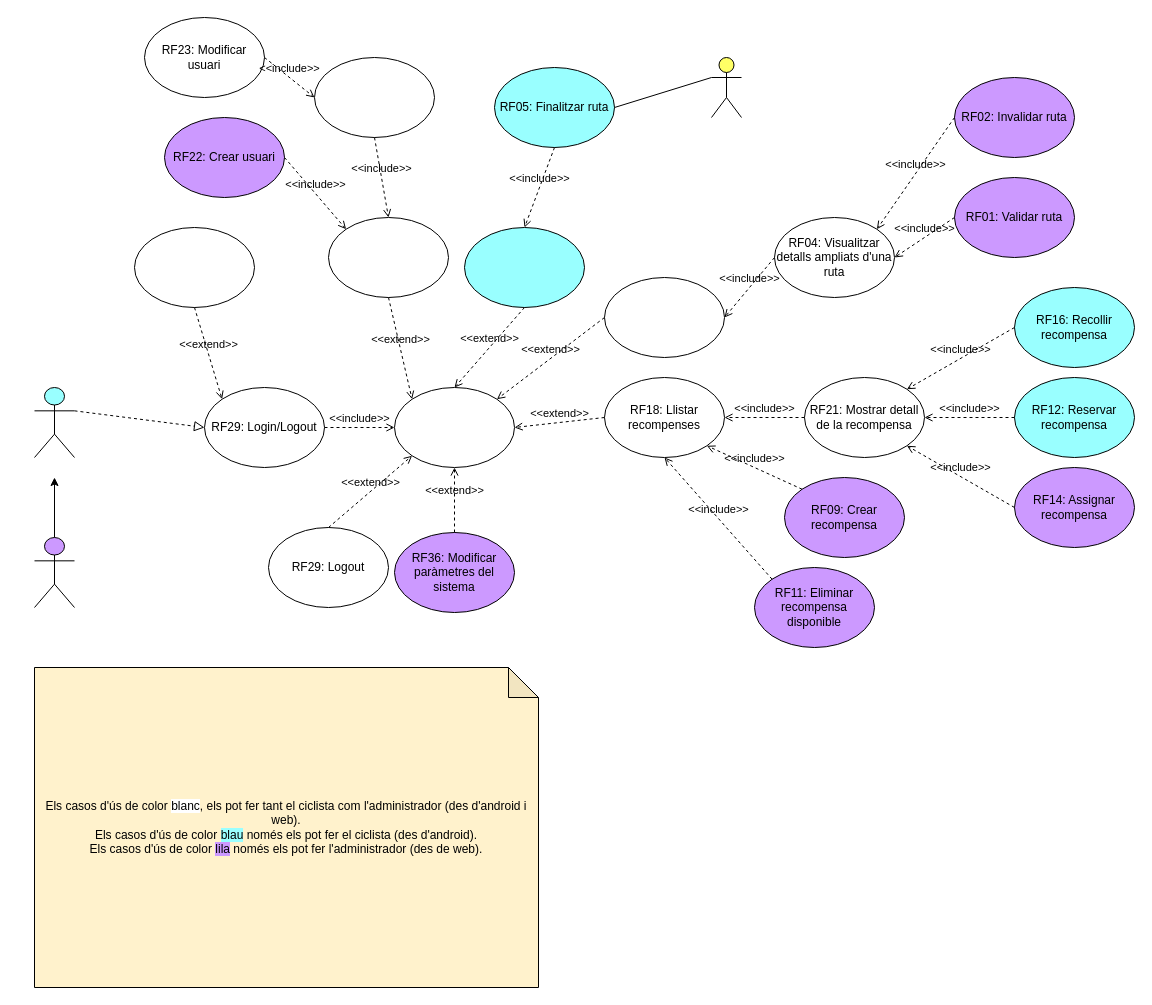
Image size: 1152x1005. Some labels were removed from this diagram. Here are the shapes that lost their labels. From the top down, the box of each, then its label:
(314, 56, 434, 138): RF26: Visualitzar detalls de l'usuari
(710, 56, 742, 118): Sistema
(134, 226, 254, 308): RF27: Recuperar password usuari
(328, 216, 448, 298): RF25: Llistar usuaris
(464, 226, 584, 308): RF03: Iniciar ruta
(604, 276, 724, 358): RF06: Llistar rutes
(34, 386, 74, 458): Ciclista
(394, 386, 514, 468): Menú principal
(34, 536, 74, 608): Administrador
